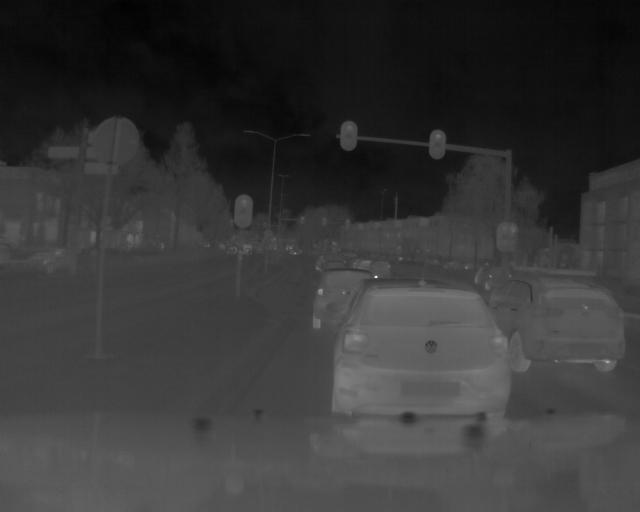car: (329, 276, 500, 419), (479, 270, 631, 374), (314, 263, 347, 333)
